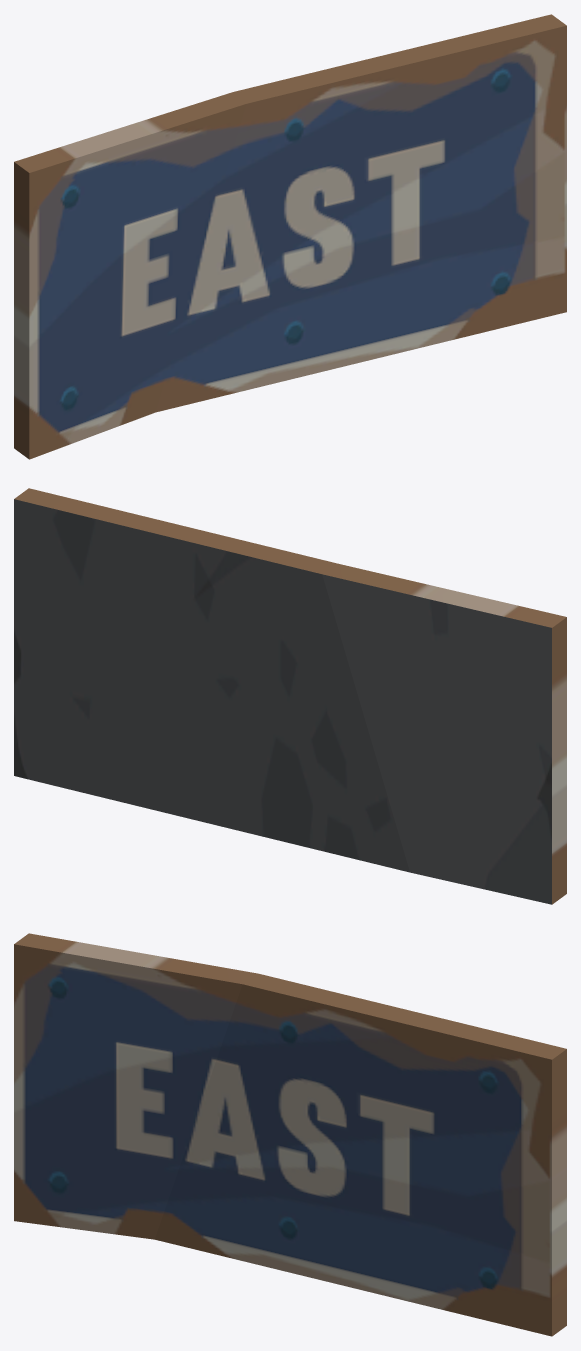
Rendered from SM_Prop_Sign_Road_04.obj.
3 renders of one model, top to bottom at view 1: azimuth 30°, elevation 25°; view 2: azimuth 150°, elevation 25°; view 3: azimuth 330°, elevation 25°, orthographic. The views are drawn at different scales.
Visible parts, largest first — view 1: SM_Prop_Sign_Road_04_0; view 2: SM_Prop_Sign_Road_04_0; view 3: SM_Prop_Sign_Road_04_0.
Part boxes in pixels (x1,y1,x2,y2): SM_Prop_Sign_Road_04_0: (14, 14, 566, 459); SM_Prop_Sign_Road_04_0: (14, 488, 566, 904); SM_Prop_Sign_Road_04_0: (14, 933, 566, 1336).
Bounding box in the file's own units: 1.29 × 0.6604 × 0.1024.
Materials: 1 (1 with a texture image).
